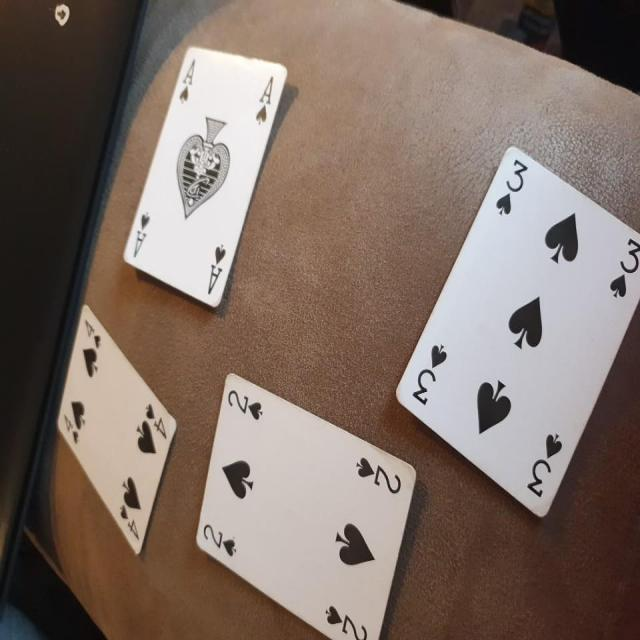2 Spades: (191, 370, 411, 640)
3 Spades: (373, 134, 640, 524)
4 Spades: (44, 306, 187, 576)
A Spades: (117, 35, 290, 317)
